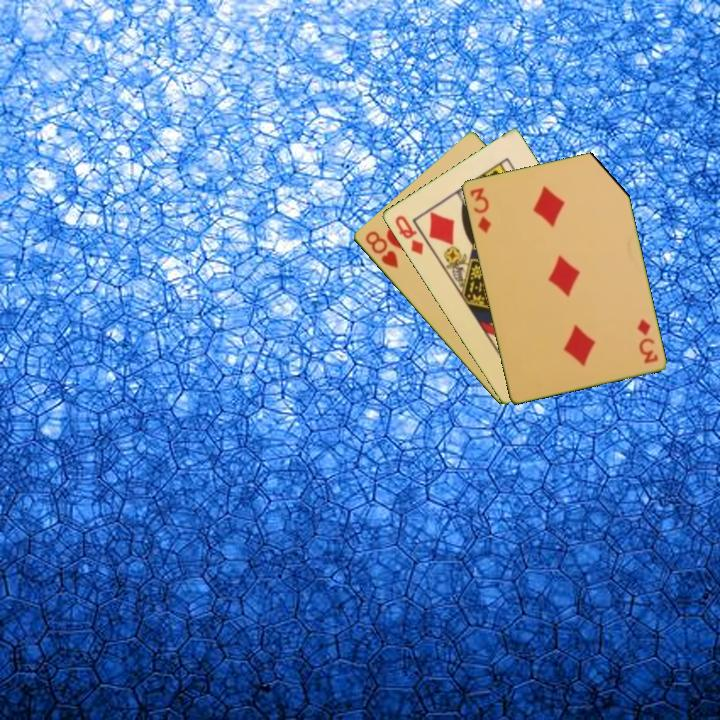3d: (466, 184, 494, 236), (633, 315, 661, 366)
8h: (361, 227, 401, 271)
Qd: (391, 211, 426, 258)
